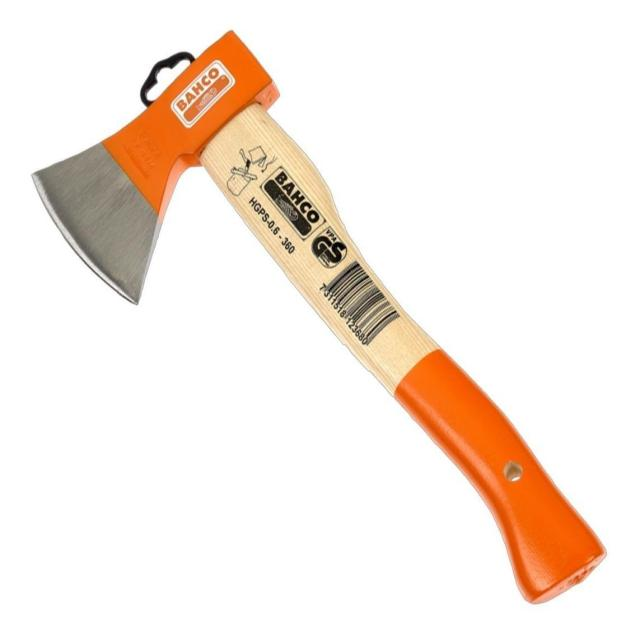Kapak: (34, 32, 585, 596)
